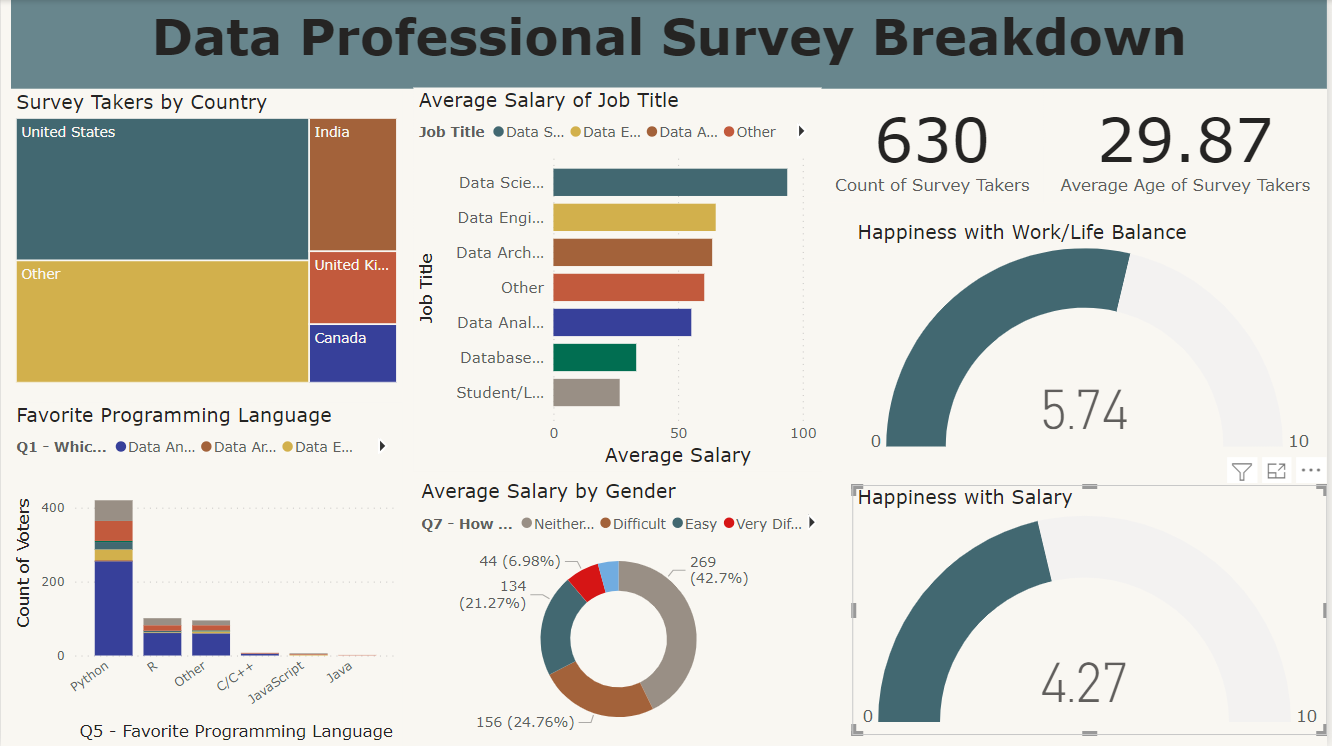

The page's visual inventory and layout, read from the dashboard file:
{"tool":"powerbi","page":{"name":"Page 1","canvas":[1280,720],"ordinal":0},"visuals":[{"type":"textbox","box":[10,0,1270,85.2],"z":0},{"type":"card","fields":{"Values":["Count(Data Professional Survey.Unique ID)"]},"box":[791.2,86.2,215,108.8],"z":1000},{"type":"card","fields":{"Values":["Avg(Data Professional Survey.Q10 - Current Age)"]},"box":[1006.2,86.2,273.8,108.8],"z":2000},{"type":"barChart","title":"Average Salary of Job Title","fields":{"Category":["Data Professional Survey.Q1 - Which Title Best Fits your Current Role?.1"],"Y":["Avg(Data Professional Survey.Average Salary)"],"Series":["Data Professional Survey.Q1 - Which Title Best Fits your Current Role?.1"]},"box":[397.5,85,393.8,370],"z":3000},{"type":"columnChart","title":"Favorite Programming Language","fields":{"Category":["Data Professional Survey.Q5 - Favorite Programming Language.1"],"Y":["CountNonNull(Data Professional Survey.Unique ID)"],"Series":["Data Professional Survey.Q1 - Which Title Best Fits your Current Role?.1"]},"box":[10,388.8,377.5,331.2],"z":4000},{"type":"treemap","title":"Survey Takers by Country","fields":{"Group":["Data Professional Survey.Q11 - Which Country do you live in?.1"],"Values":["CountNonNull(Data Professional Survey.Q11 - Which Country do you live in?.1)"]},"box":[10,86.2,377.5,287.5],"z":5000},{"type":"gauge","title":"Happiness with Salary","fields":{"Y":["Avg(Data Professional Survey.Q6 - How Happy are you in your Current Position with the following? (Salary))"],"MinValue":["Min(Data Professional Survey.Q6 - How Happy are you in your Current Position with the following? (Salary))"],"MaxValue":["Max(Data Professional Survey.Q6 - How Happy are you in your Current Position with the following? (Salary))"]},"box":[821.2,467.5,458.8,241.2],"z":6000},{"type":"gauge","title":"Happiness with Work/Life Balance","fields":{"Y":["Avg(Data Professional Survey.Q6 - How Happy are you in your Current Position with the following? (Work/Life Balance))"],"MinValue":["Min(Data Professional Survey.Q6 - How Happy are you in your Current Position with the following? (Work/Life Balance))"],"MaxValue":["Max(Data Professional Survey.Q6 - How Happy are you in your Current Position with the following? (Work/Life Balance))1"]},"box":[821.2,212.5,458.8,228.8],"z":7000},{"type":"donutChart","title":"Average Salary by Gender","fields":{"Category":["Data Professional Survey.Q7 - How difficult was it for you to break into Data?"],"Y":["CountNonNull(Data Professional Survey.Q7 - How difficult was it for you to break into Data?)"]},"box":[400,462.5,391.2,257.5],"z":8000}]}

Visuals, with their boxes in screenshot pixels (x1, y1, x2, y2), scaled from the page's 1280x720 canvas onto the 1332x746 screenshot:
textbox: crop(10, 0, 1331, 88)
card - Count(Data Professional Survey.Unique ID): crop(823, 89, 1047, 202)
card - Avg(Data Professional Survey.Q10 - Current Age): crop(1047, 89, 1331, 202)
"Average Salary of Job Title" barChart: crop(414, 88, 823, 471)
"Favorite Programming Language" columnChart: crop(10, 403, 403, 745)
"Survey Takers by Country" treemap: crop(10, 89, 403, 387)
"Happiness with Salary" gauge: crop(855, 484, 1331, 734)
"Happiness with Work/Life Balance" gauge: crop(855, 220, 1331, 457)
"Average Salary by Gender" donutChart: crop(416, 479, 823, 745)
